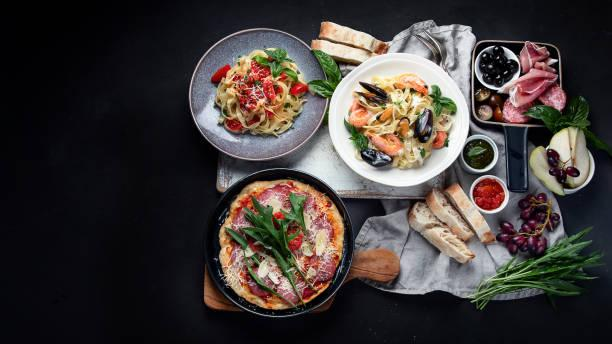Braised Crucian Carp: (208, 170, 353, 312), (191, 21, 331, 165), (328, 53, 468, 189)
